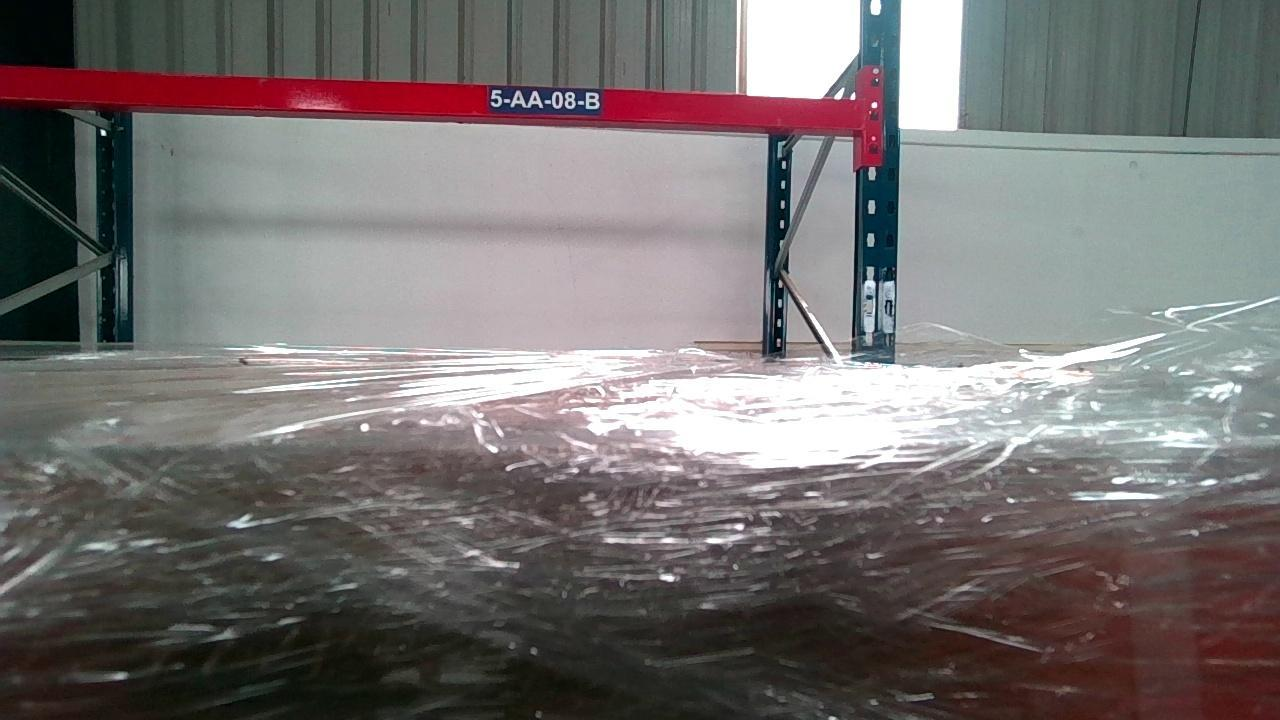h_rack: (0, 63, 878, 130)
